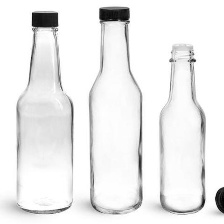bottle: (10, 5, 81, 215), (85, 4, 145, 216), (154, 36, 209, 217)
